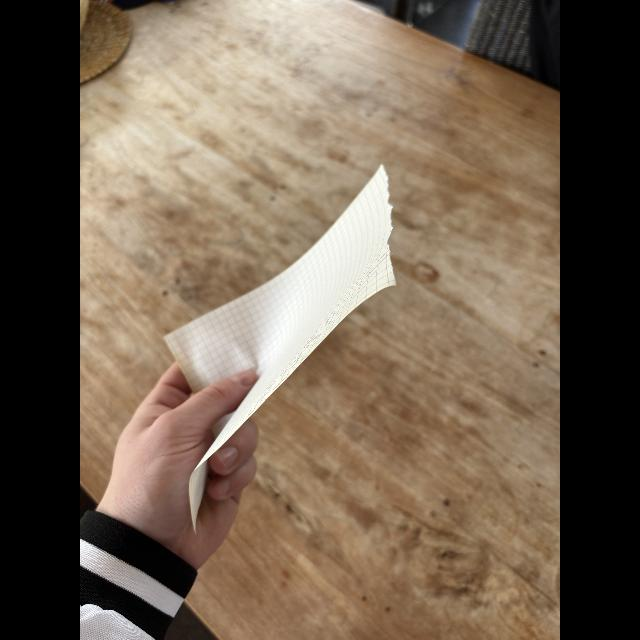Paper: (162, 165, 404, 533)
